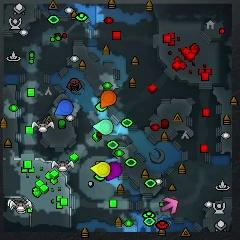p1: (55, 99, 73, 116)
p2: (93, 120, 113, 136)
p3: (105, 162, 122, 181)
p4: (90, 161, 110, 178)
p5: (101, 90, 116, 108)
x1: (160, 197, 178, 214)
